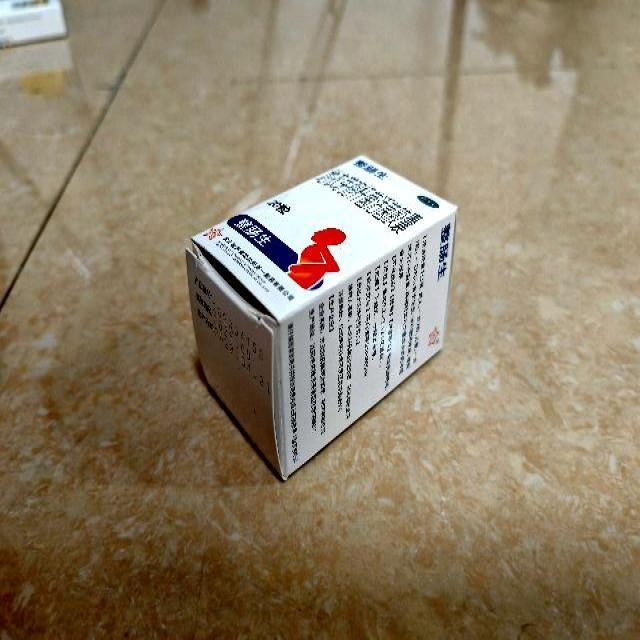box: (187, 155, 457, 482)
